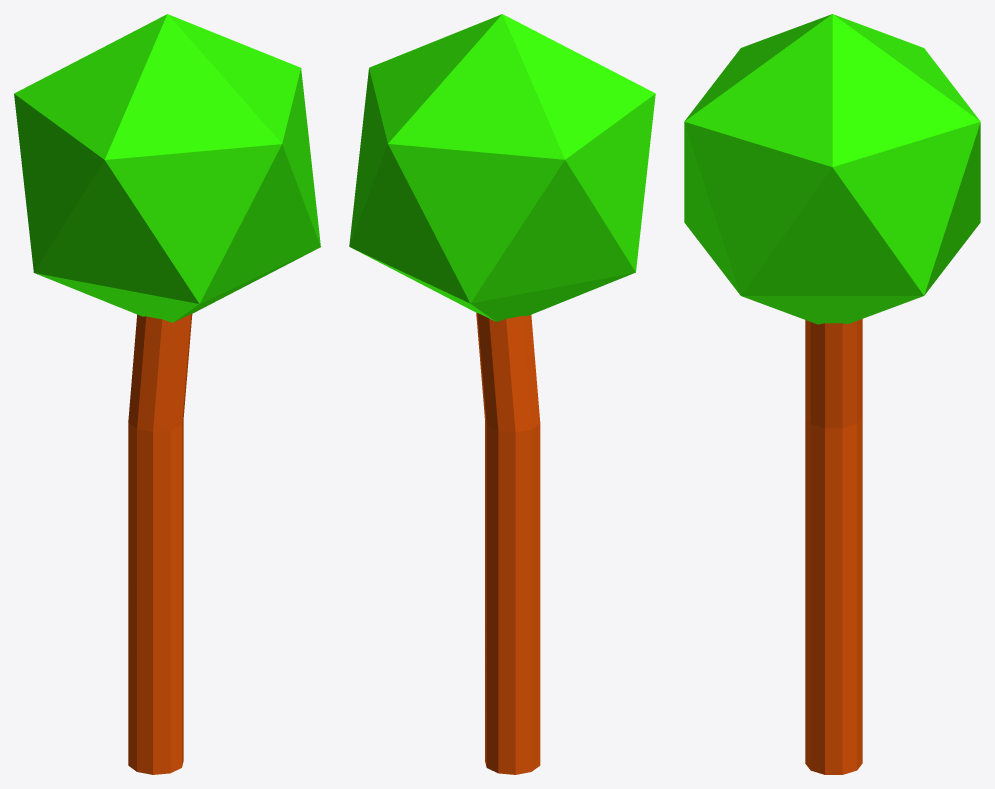
File: Tree_01.fbx
3 renders of one model, left to right at view 1: azimuth 30°, elevation 25°; view 2: azimuth 150°, elevation 25°; view 3: azimuth 270°, elevation 25°, orthographic.
Visible parts, largest first — view 1: Icosphere, Body; view 2: Icosphere, Body; view 3: Icosphere, Body.
Boxes of the visible parts, box(x1,y1,x2,y2) form: Icosphere: box(14, 14, 320, 322); Body: box(128, 314, 192, 774); Icosphere: box(349, 14, 655, 321); Body: box(476, 313, 540, 774); Icosphere: box(684, 14, 980, 324); Body: box(805, 319, 862, 774).
Bounding box in the file's own units: 1087 × 2903 × 1034.
